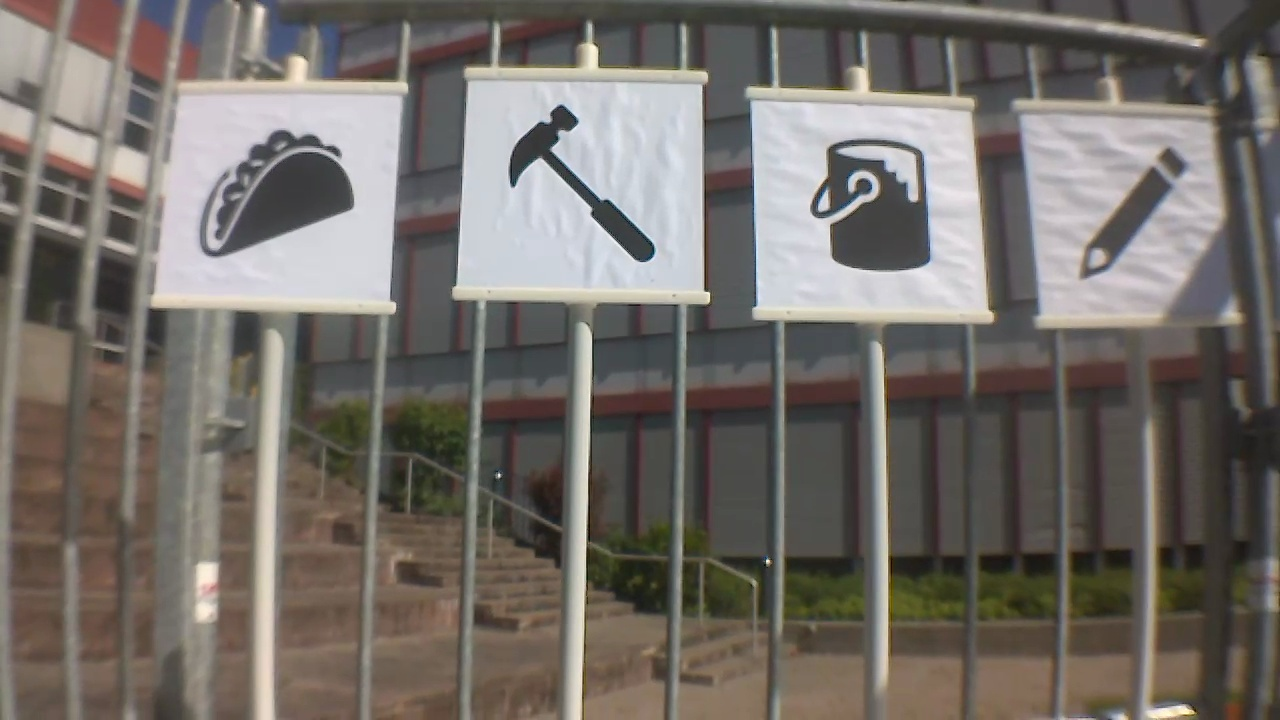bucket: (811, 140, 936, 279)
hammer: (488, 84, 666, 268)
pencil: (1058, 140, 1193, 283)
taco: (193, 116, 359, 261)
